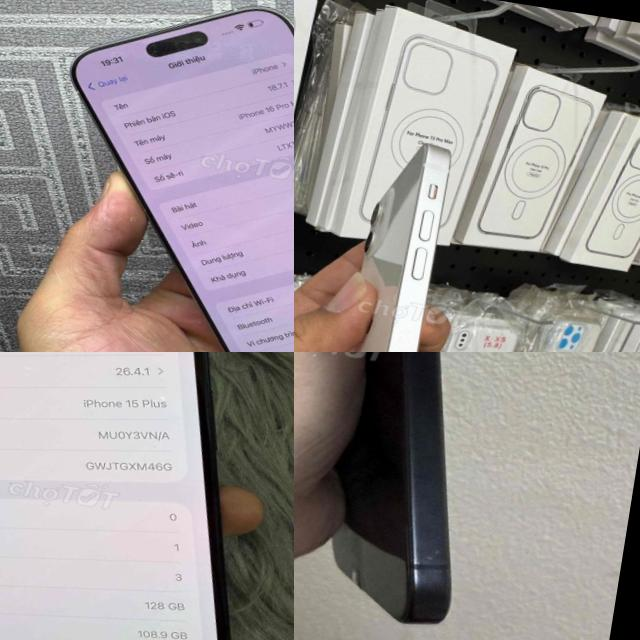scratch: (399, 520, 486, 592)
